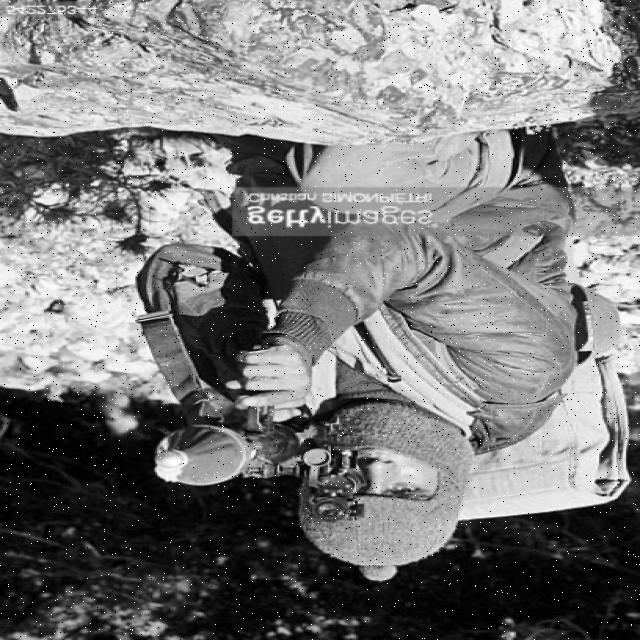bazooka: (150, 413, 320, 492)
